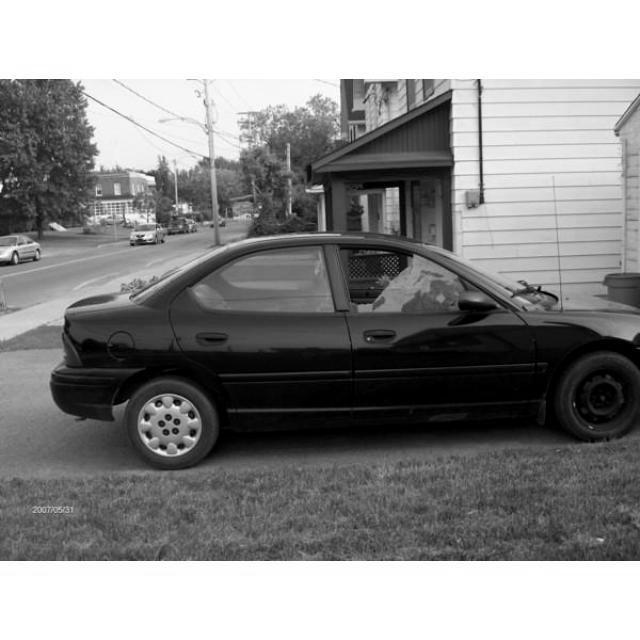doorouter-dent: (345, 236, 481, 372)
